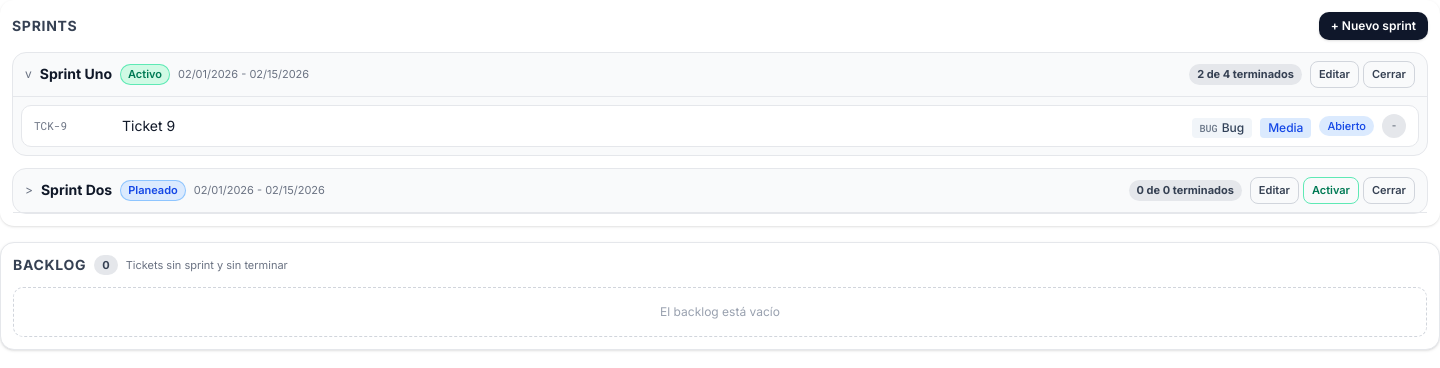
TicketsBacklog › carga de buckets › oculta los tickets del sprint al plegarlo de nuevo
This screenshot has width=1440, height=368.
Check: the text "TCK-9" is shown, box x1=34 y1=118 x2=67 y2=133
Click the button "Sprint Uno" at [76, 74], box x1=25 y1=64 x2=1181 y2=84
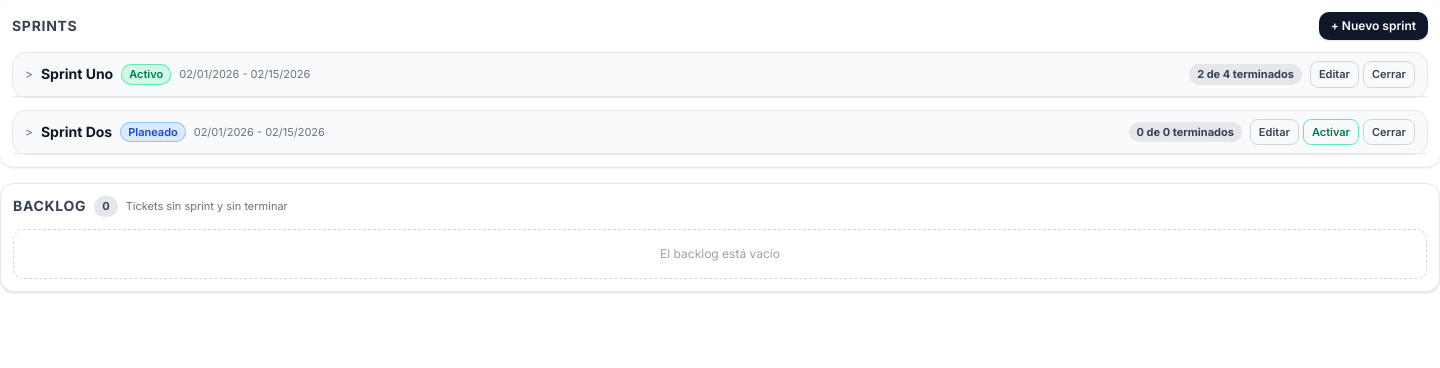
Check: the text "TCK-9" is gone
